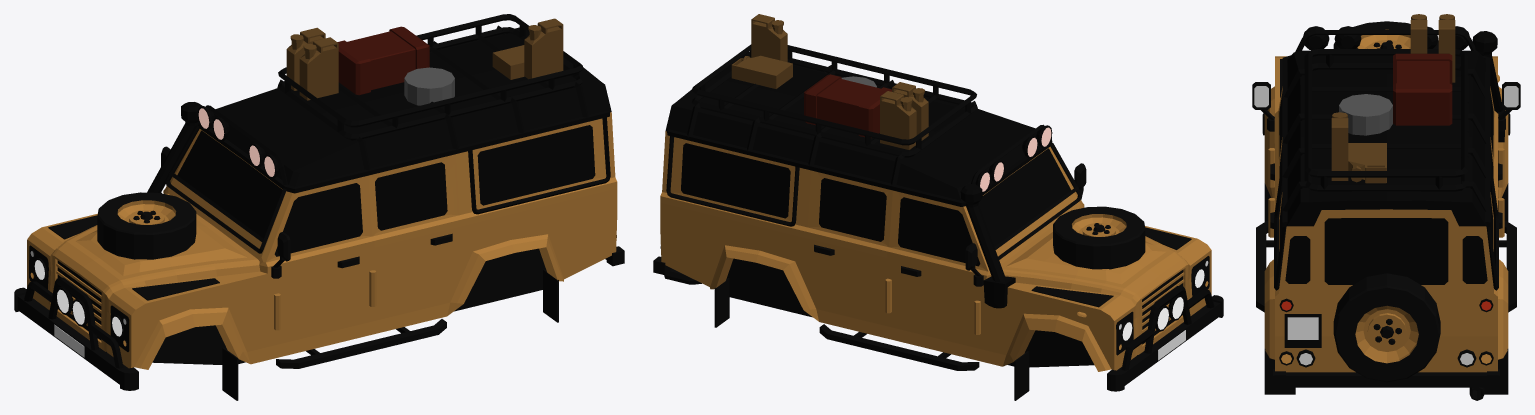
The model's file is car-body.glb.
The picture shows the model from 3 angles, left to right: view 1: azimuth 30°, elevation 25°; view 2: azimuth 150°, elevation 25°; view 3: azimuth 270°, elevation 25°; orthographic projection. The views are drawn at different scales.
Parts seen in each view (by area): view 1: landy, roofRack, bullBar, bonnetPlates, snorkel; view 2: landy, roofRack, snorkel, bullBar, bonnetPlates; view 3: landy, roofRack, snorkel.
Boxes of the visible parts, left/top/right/bottom form: landy: left=14, top=27, right=624, bottom=400; roofRack: left=165, top=14, right=610, bottom=253; bullBar: left=24, top=277, right=123, bottom=368; bonnetPlates: left=48, top=215, right=219, bottom=300; snorkel: left=147, top=102, right=202, bottom=193; landy: left=653, top=51, right=1223, bottom=400; roofRack: left=666, top=14, right=1082, bottom=259; snorkel: left=960, top=184, right=1015, bottom=308; bullBar: left=1121, top=285, right=1214, bottom=370; bonnetPlates: left=1031, top=227, right=1191, bottom=307; landy: left=1252, top=21, right=1520, bottom=400; roofRack: left=1274, top=14, right=1498, bottom=290; snorkel: left=1472, top=31, right=1505, bottom=142.
Size of the model in its own units: 3.88 by 1.9 by 1.61.
3 materials, 2 textured.
